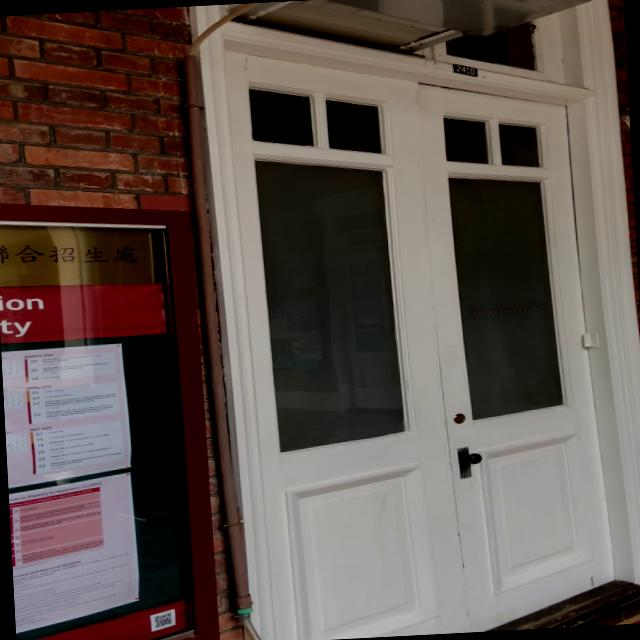room241d: (450, 62, 481, 78)
